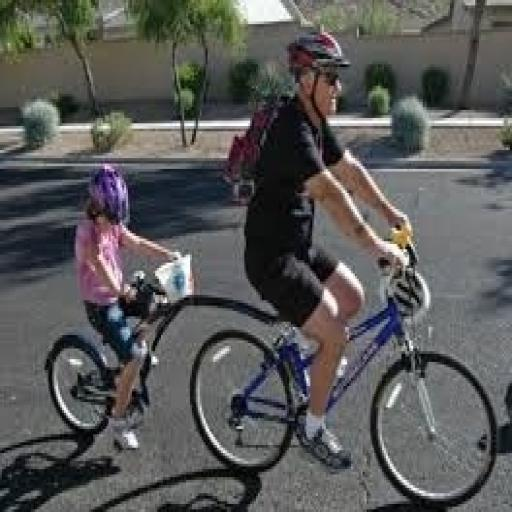cycling: (233, 27, 419, 474), (70, 161, 186, 453)
